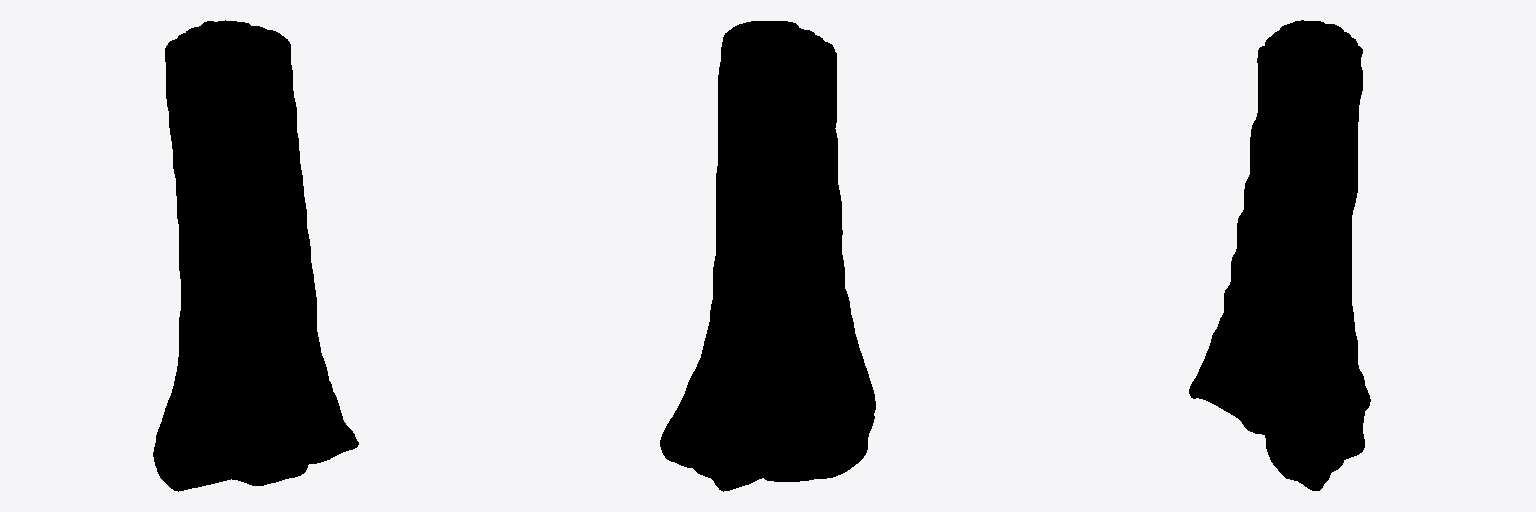
The robot description file, URDF, robot "proximal.obj":
<robot name="proximal.obj">
	<link name="proximal">
		<visual>
			<origin rpy="0.0 0.0 0.0" xyz="0 0 0" />
			<geometry>
				<mesh filename="proximal1022.obj" scale="1 1 1" />
			</geometry>
			<material name="texture">
				<color rgba="0.0 0.0 0.0 1.0" />
			</material>
		</visual>
		<collision>
			<origin rpy="0.0 0.0 0.0" xyz="0 0 0" />
			<geometry>
				<mesh filename="proximal102_vhacd.obj" scale="0.1 0.1 0.1" />
			</geometry>
		</collision>
		<inertial>
			<mass value="1.0" />
			<inertia ixx="1.0" ixy="0.0" ixz="0.0" iyy="1.0" iyz="0.0" izz="1.0" />
		</inertial>
	</link>

  <joint name="leg" type="fixed">
    <parent link="proximal"/>
    <child link="patient"/>
    <origin xyz="0.0009518 -0.1498613 0.4550867" rpy="0 0 0"/>
  </joint>
	
	<link name="patient">
		<visual>
			<origin rpy="0.0 0.0 0.0" xyz="0 0 0" />
			<geometry>
				<mesh filename="patient.obj" scale="0.5 0.5 0.5" />
			</geometry>
			<material name="texture">
				<color rgba="1.0 1.0 1.0 1.0" />
			</material>
		</visual>
		<collision>
			<origin rpy="0.0 0.0 0.0" xyz="0 0 0" />
			<geometry>
				<mesh filename="patient_vhacd.obj" scale="0.5 0.5 0.5" />
			</geometry>
		</collision>
		<inertial>
			<mass value="1.0" />
			<inertia ixx="1.0" ixy="0.0" ixz="0.0" iyy="1.0" iyz="0.0" izz="1.0" />
		</inertial>
	</link>
</robot>

--- Facts derived from the render (not from the file) ---
Views: 3 orthographic renders of the robot side by side, from view 1: azimuth 30°, elevation 25°; view 2: azimuth 150°, elevation 25°; view 3: azimuth 270°, elevation 25°.
Robot: proximal.obj — 2 links, 1 joints (1 fixed); root link proximal; default pose: all joints at 0.
Links seen in each view (by area): view 1: proximal; view 2: proximal; view 3: proximal.
Boxes of the visible links, box(x1,y1,x2,y2) form: proximal: box(153, 20, 358, 491); proximal: box(660, 21, 875, 491); proximal: box(1189, 20, 1370, 490).
Bounding box of the posed robot: 0.0452 × 0.0408 × 0.0996 m (x, y, z).
Meshes: 2 distinct files referenced, 1 mesh visuals loaded (1 OBJ); not drawn: 1 (reference not matched to a file when rendering).
